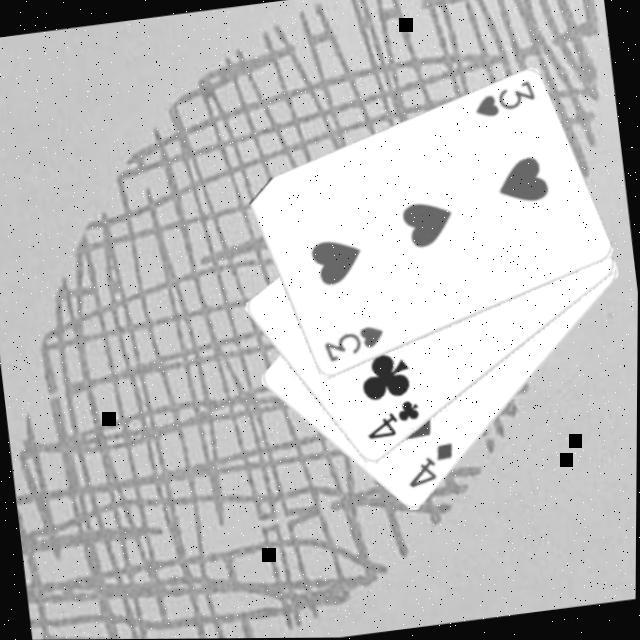3H: (468, 76, 538, 121), (318, 322, 388, 366)
4C: (360, 395, 424, 443)
4D: (400, 438, 460, 492)
